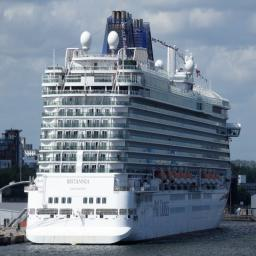cruises: (24, 11, 244, 251)
